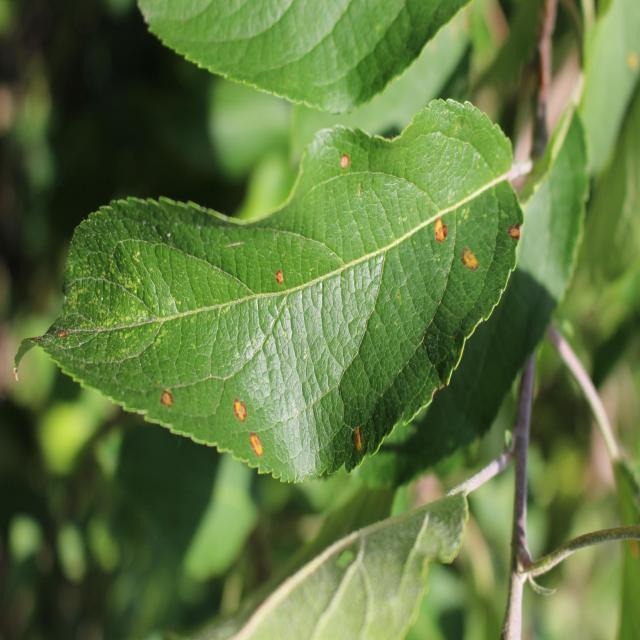Rust: (338, 399, 381, 467), (419, 202, 452, 250), (263, 253, 290, 306), (230, 376, 255, 433), (458, 245, 488, 289), (504, 218, 531, 262), (156, 376, 181, 418), (329, 148, 360, 180), (246, 434, 270, 462)
